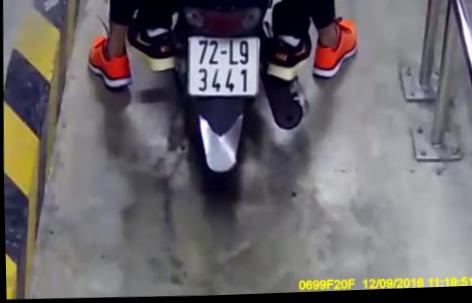LP: (185, 32, 261, 101)
